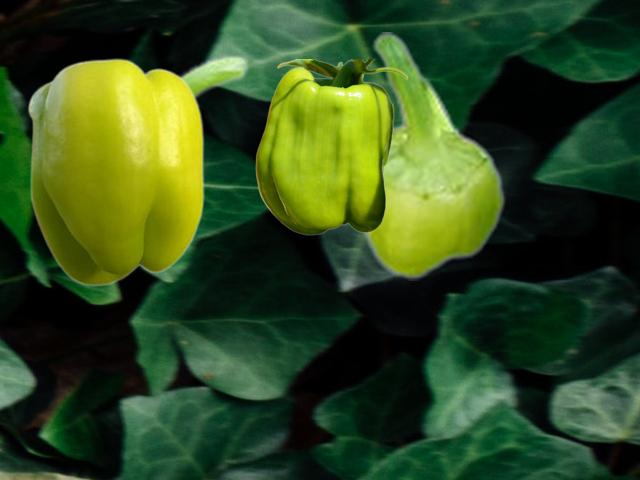bell_pepper: (38, 53, 249, 275), (27, 57, 203, 285), (358, 32, 505, 279), (255, 59, 407, 234)
